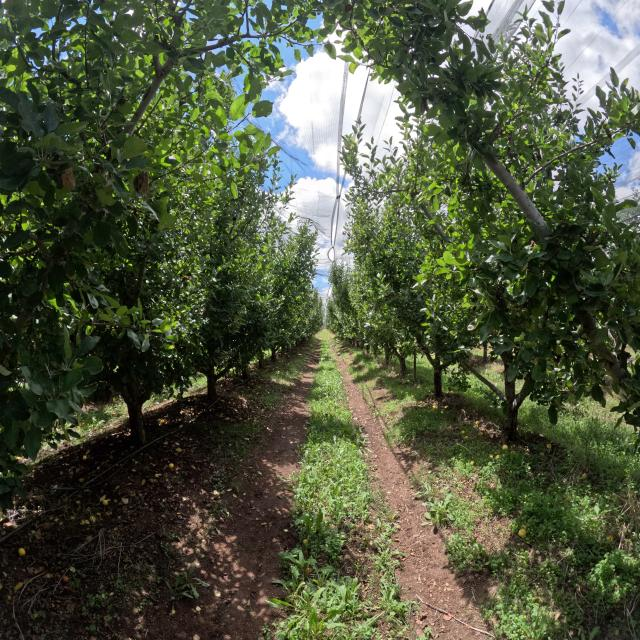-FireBlight-: (133, 168, 152, 199), (62, 169, 76, 190)
